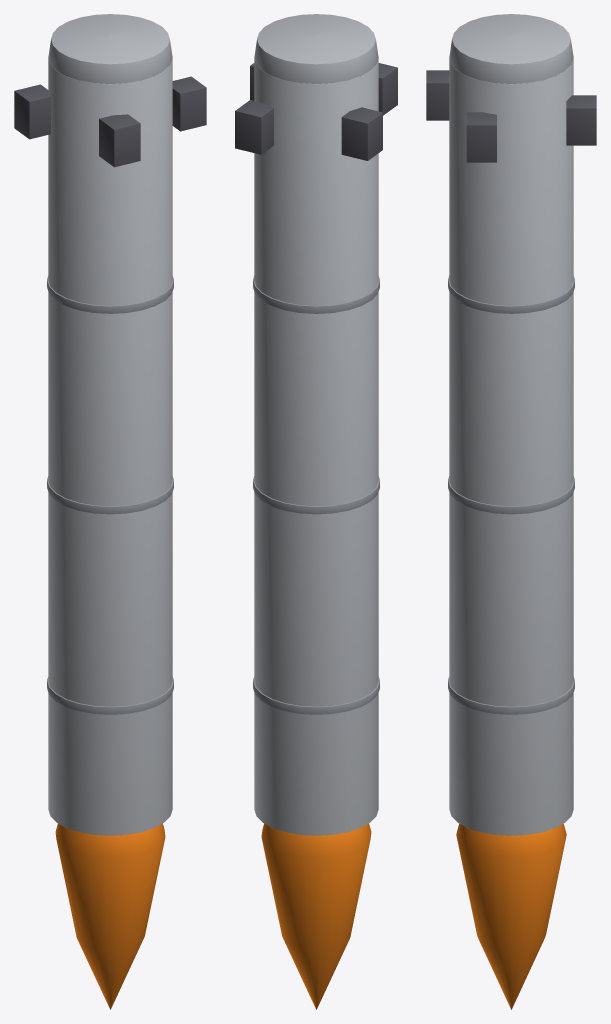
Rendered from booster_air.glb.
3 views of the same model, side by side, from view 1: azimuth 30°, elevation 25°; view 2: azimuth 150°, elevation 25°; view 3: azimuth 270°, elevation 25° (orthographic).
Visible parts, largest first — view 1: booster_air; view 2: booster_air; view 3: booster_air.
Part boxes in pixels (x1,y1,x2,y2): booster_air: (14, 14, 206, 1009); booster_air: (235, 14, 397, 1009); booster_air: (426, 14, 596, 1009).
Size of the model in its own units: 1.23 by 7.78 by 1.23.
